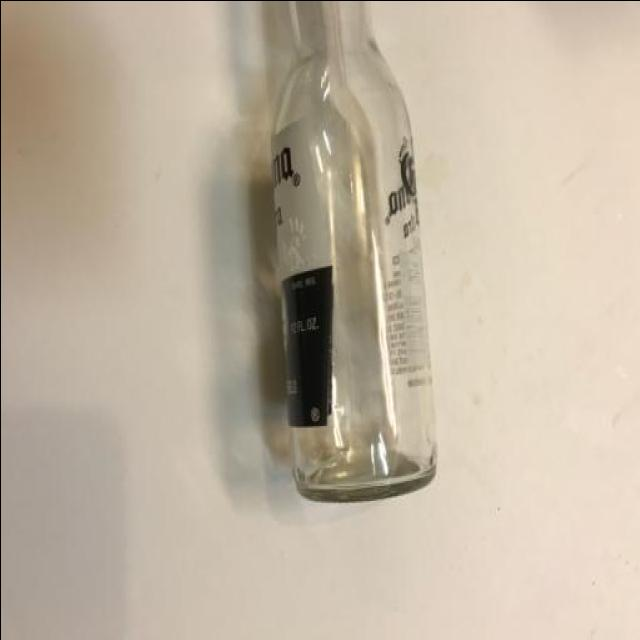glass: (262, 0, 434, 500)
